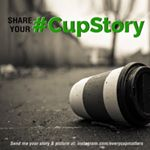cups: (65, 60, 150, 130)
